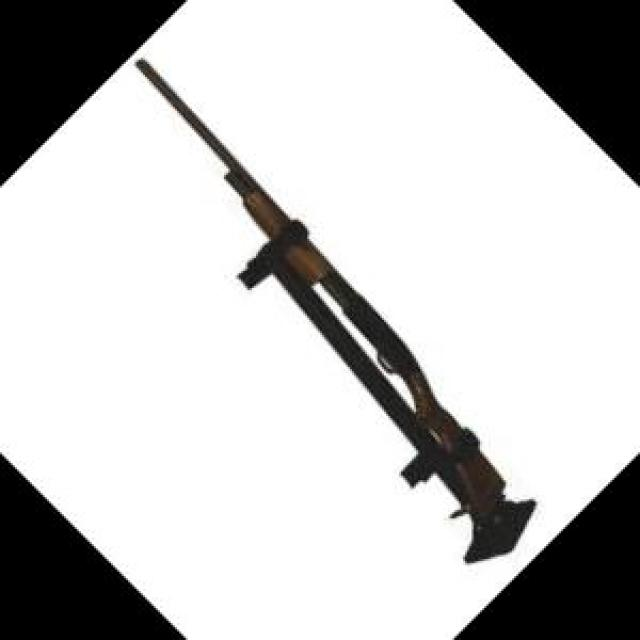heavy-weapon: (134, 58, 508, 521)
